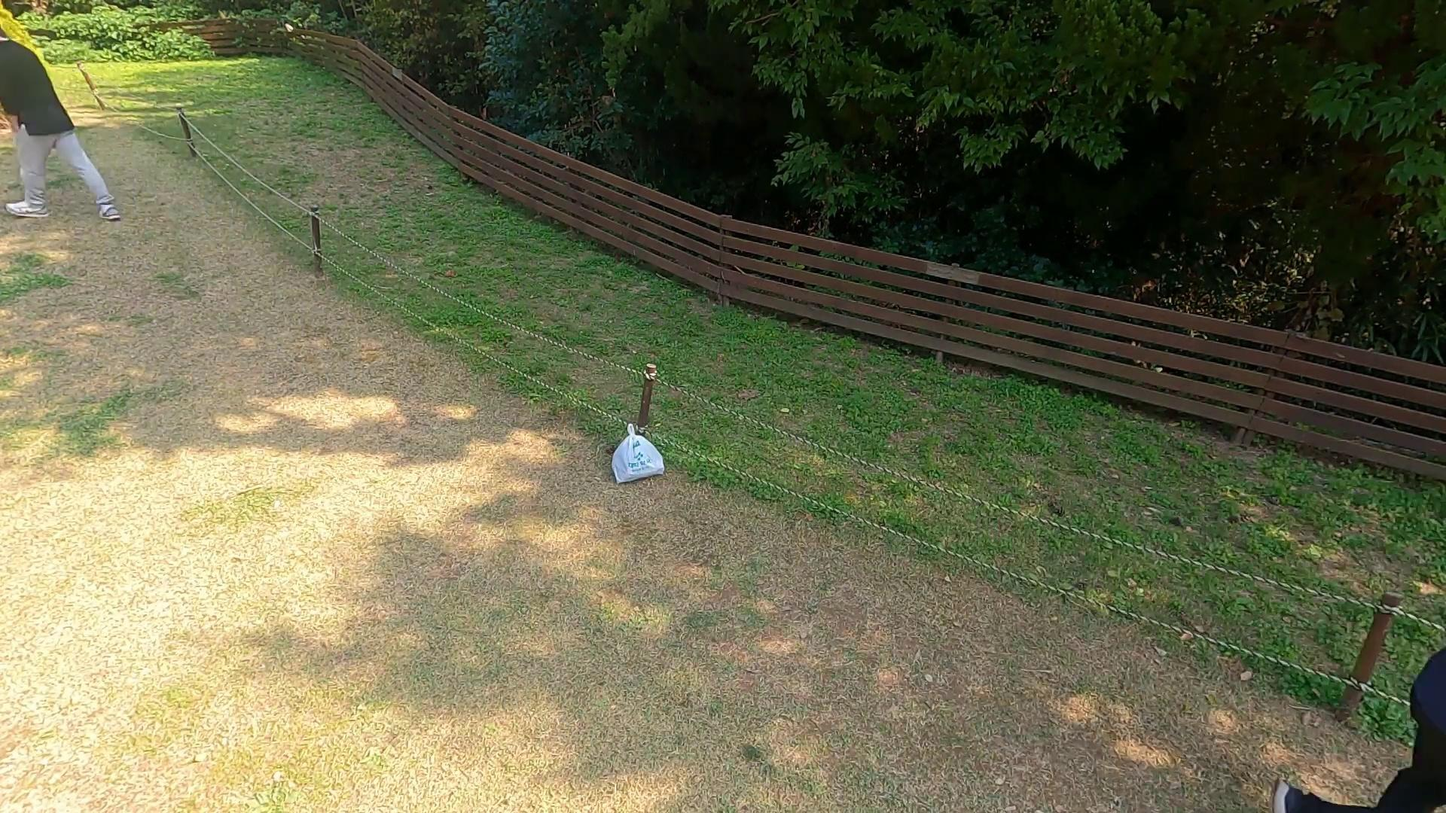person: (0, 23, 121, 233)
trash: (606, 422, 668, 484)
